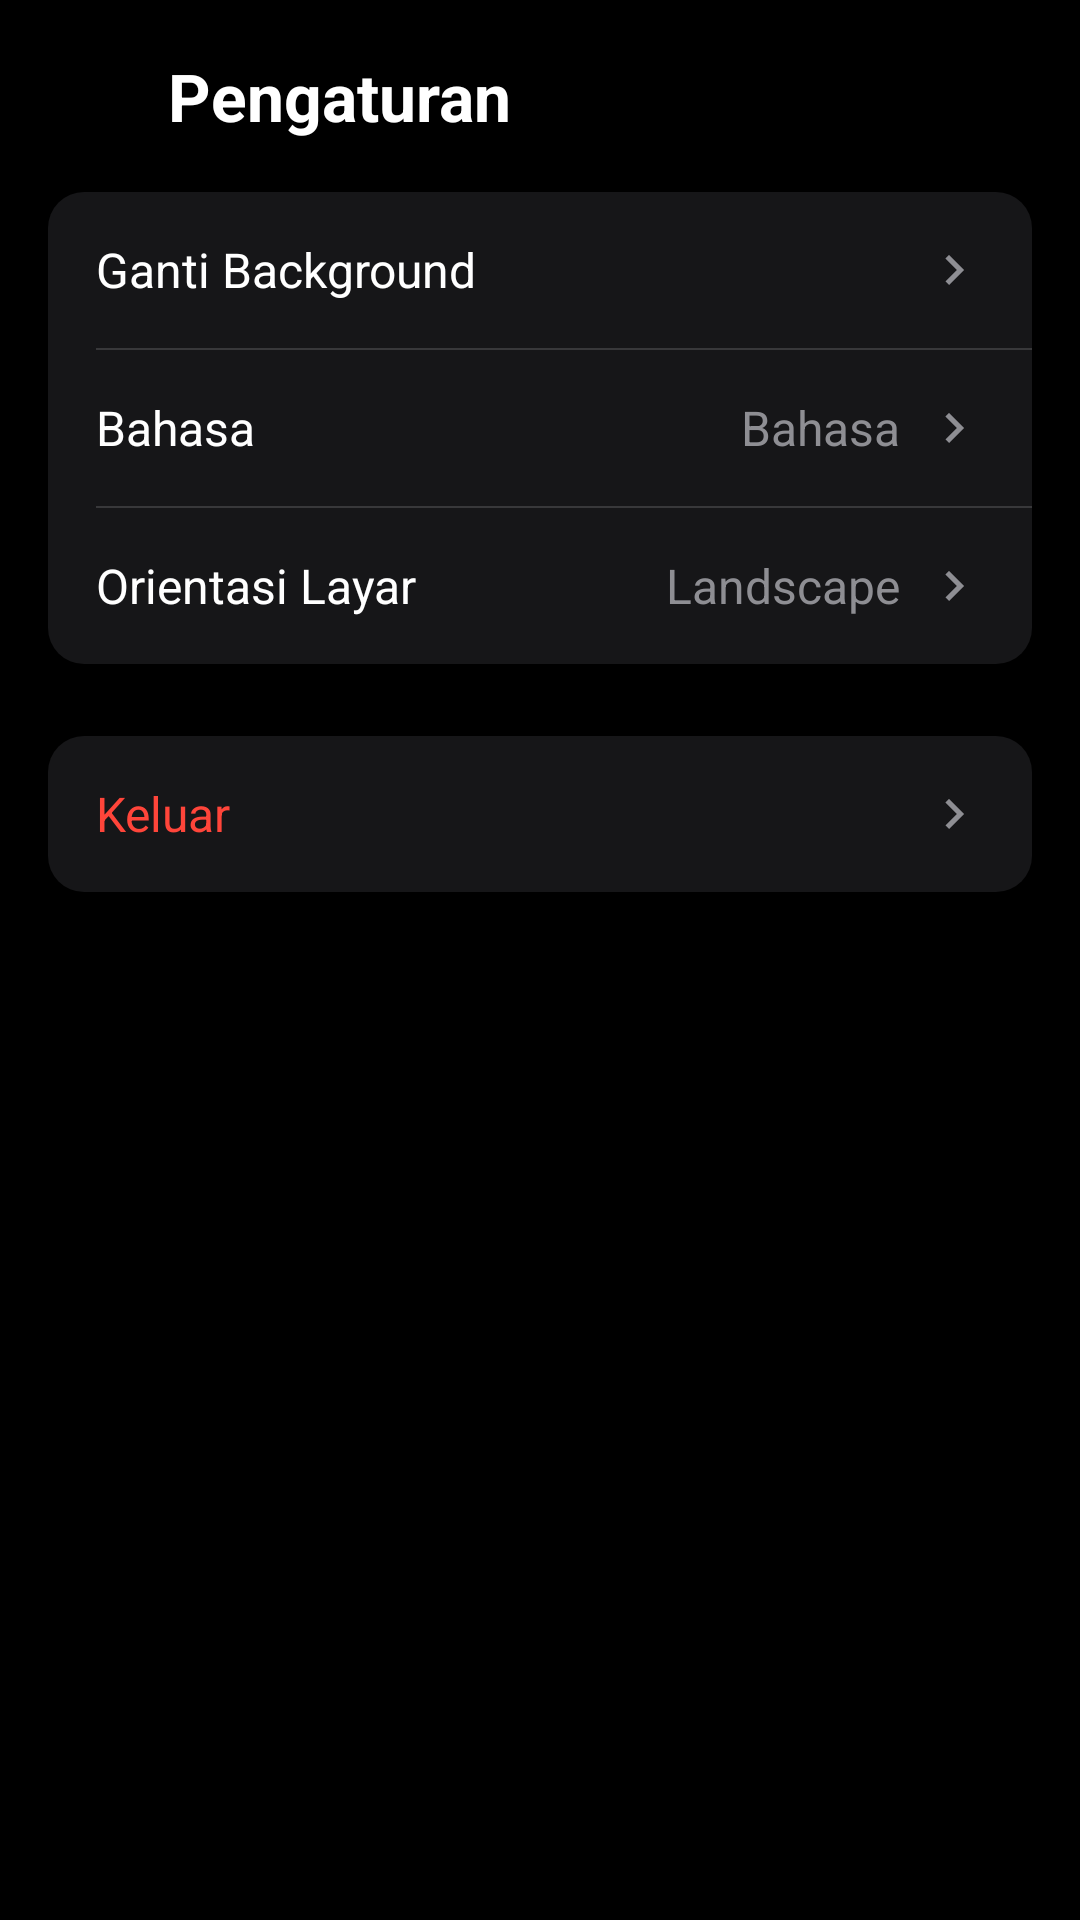

Icon click points for this 1080x1920 phone screenshot, format (x=x, y=y):
chevron right: (x=954, y=270), (x=954, y=428), (x=954, y=586), (x=954, y=814)
